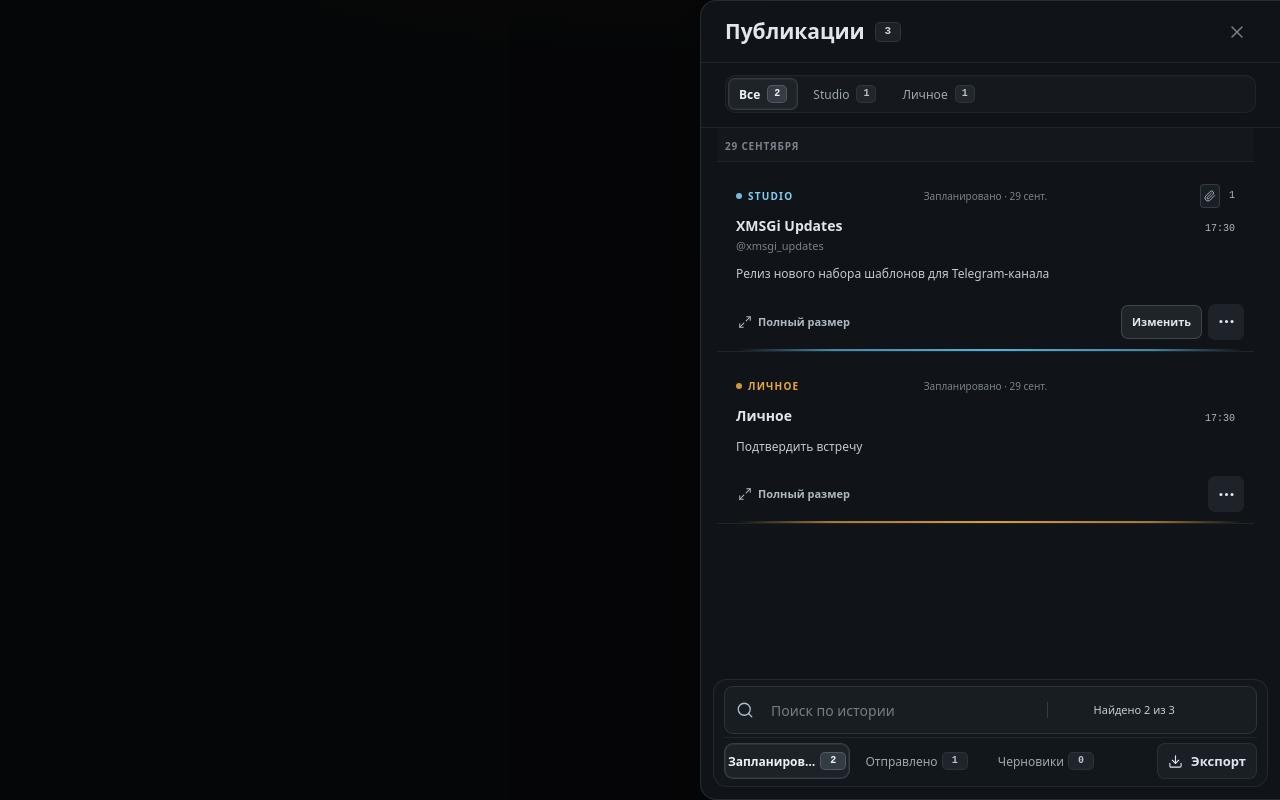
it: HistoryDrawer search › shows matching totals and clears an empty search
Click the button with aria-label "Экспортировать текущую категорию" at [1207, 761], box x1=1157 y1=743 x2=1257 y2=779
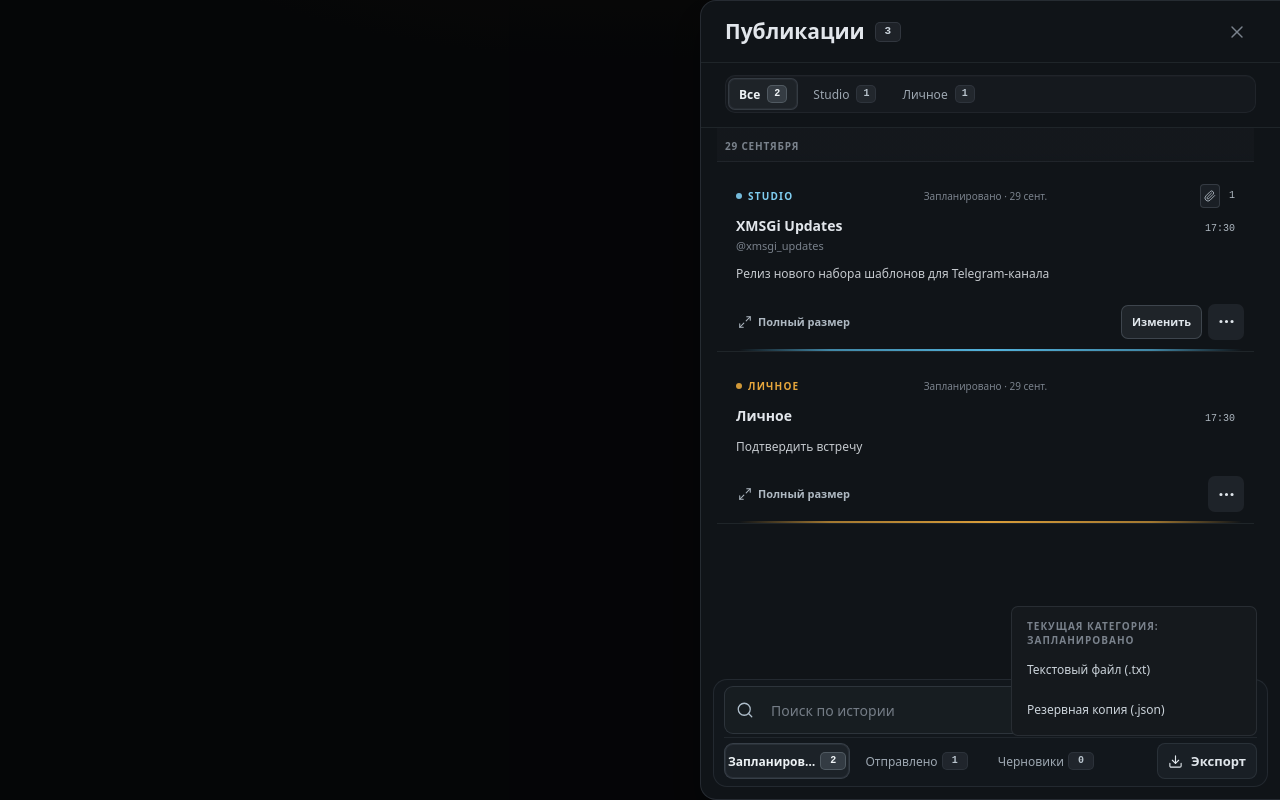
Result: the menu named "Формат экспорта" is shown at x1=1011 y1=606 x2=1257 y2=736
Type "нет такого сообщения" into the field labelled "Поиск по истории" at [888, 710], box x1=771 y1=687 x2=1006 y2=733
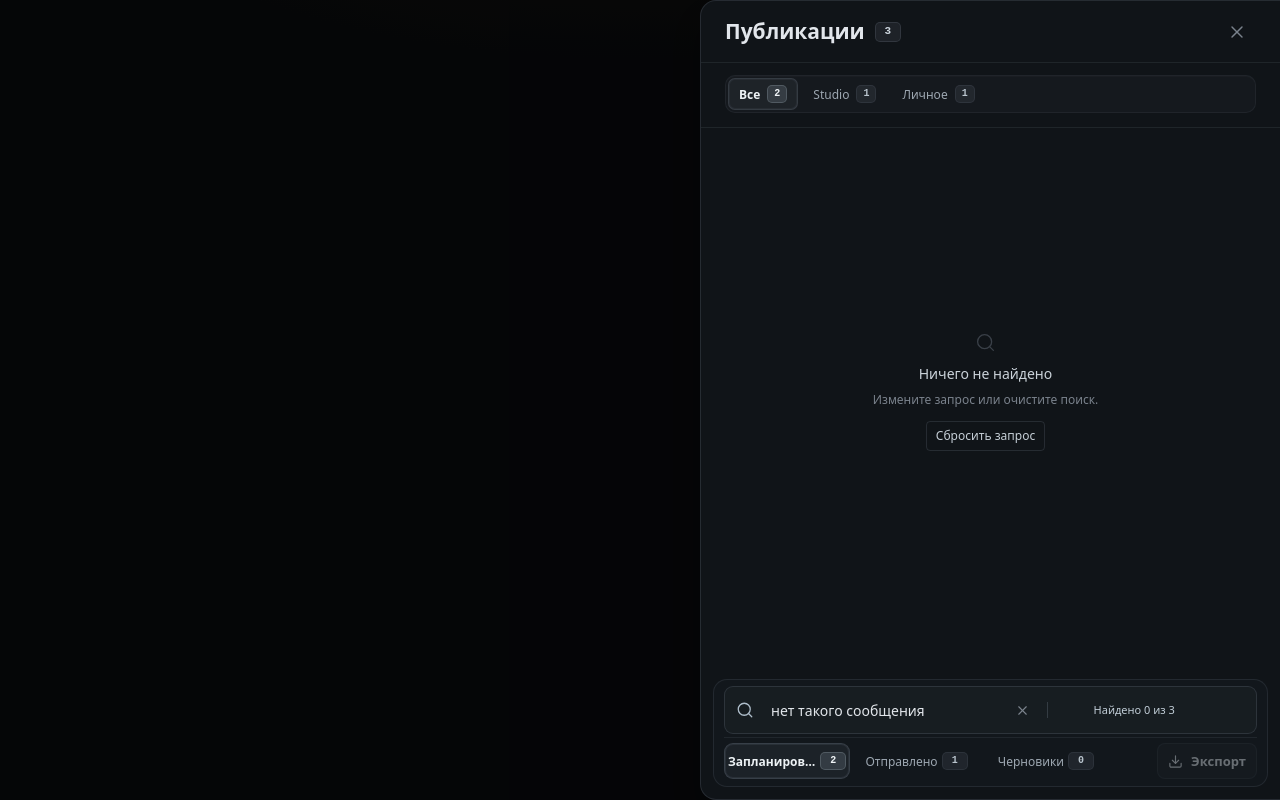
Result: the text "Найдено 0 из 3" is shown at x1=1047 y1=702 x2=1175 y2=718
Result: the text "Ничего не найдено" is shown at x1=919 y1=364 x2=1052 y2=383
Click the button named "Очистить поиск" at [1023, 710], box x1=1010 y1=697 x2=1036 y2=723
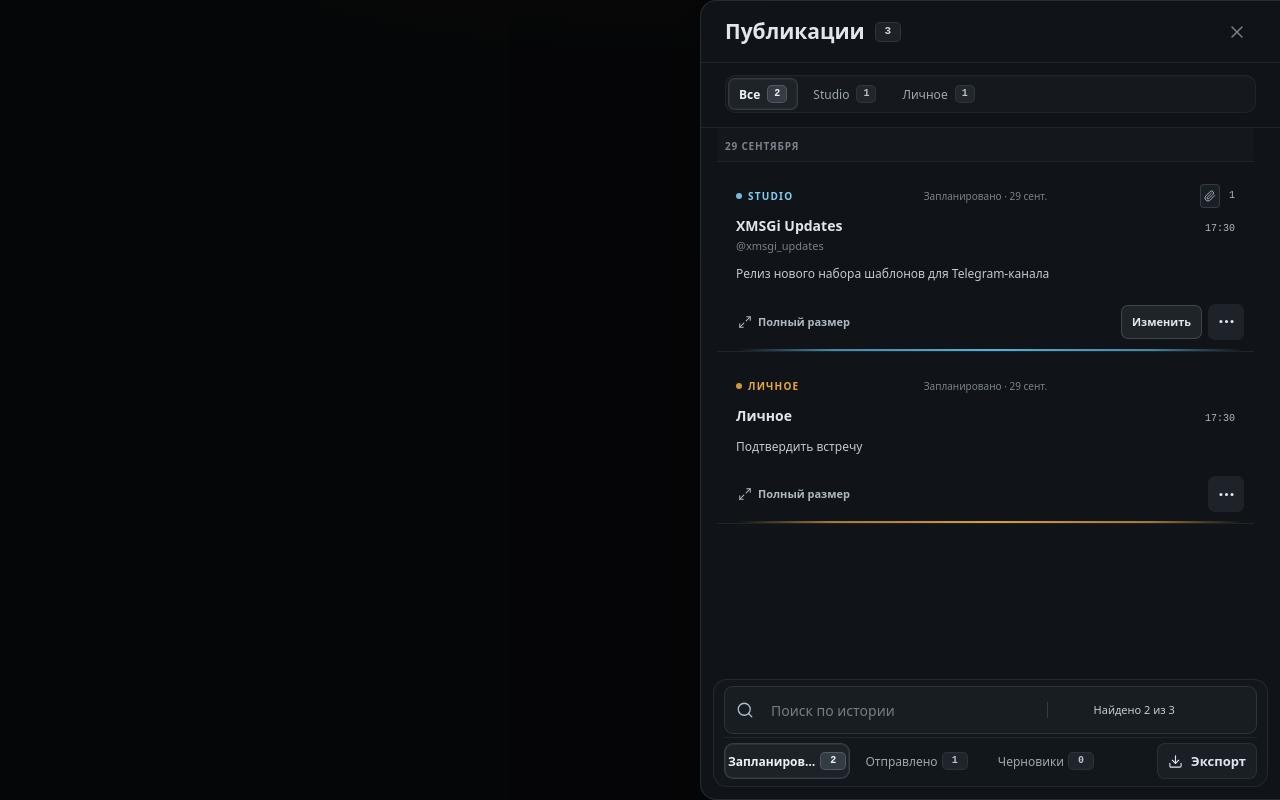
Result: the text "Найдено 2 из 3" is shown at x1=1047 y1=702 x2=1175 y2=718
